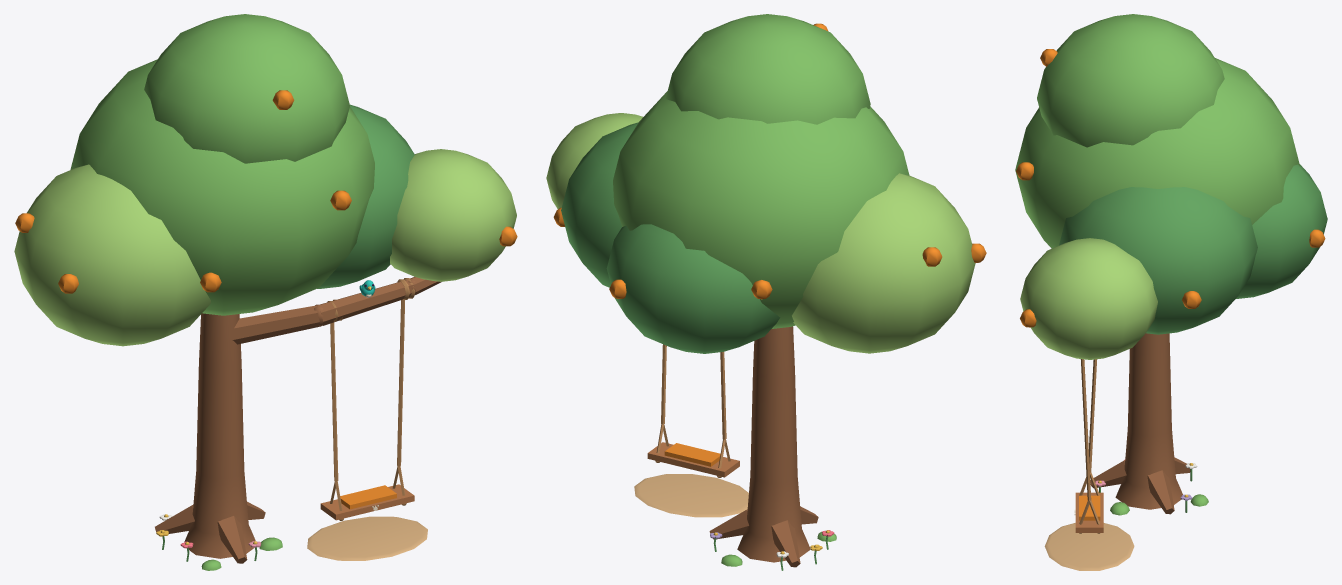
File: tree-swing.glb
The picture shows the model from 3 angles, left to right: view 1: azimuth 30°, elevation 25°; view 2: azimuth 150°, elevation 25°; view 3: azimuth 270°, elevation 25°; orthographic projection. The views are drawn at different scales.
Visible parts, largest first — view 1: tree_swing; view 2: tree_swing; view 3: tree_swing.
Boxes of the visible parts, x1,y1,x2,y2 form: tree_swing: (14,14,517,570); tree_swing: (546,14,986,570); tree_swing: (1015,14,1327,570).
Bounding box in the file's own units: 2.84 × 3.17 × 1.88.
